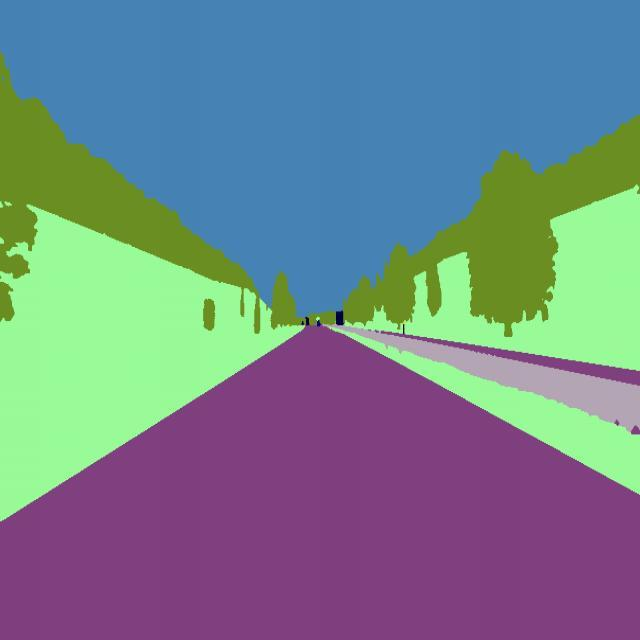safe: (334, 308, 345, 330)
